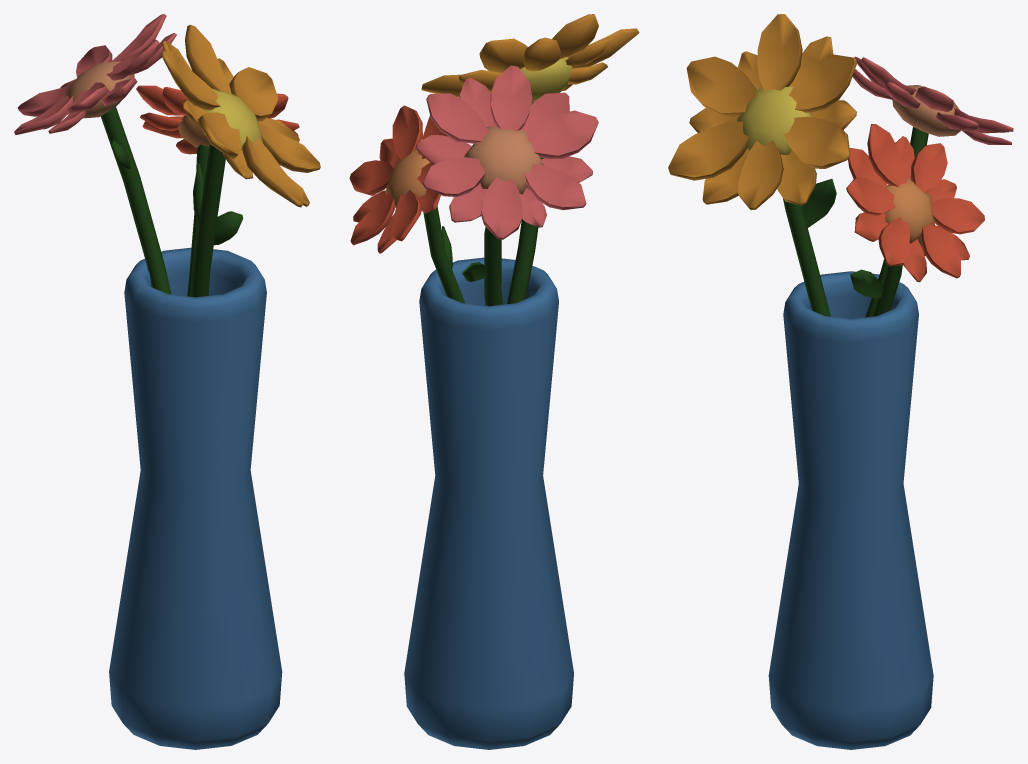
Rendered from Flowers_Vase_01.fbx.
3 views of the same model, side by side, from view 1: azimuth 30°, elevation 25°; view 2: azimuth 150°, elevation 25°; view 3: azimuth 270°, elevation 25° (orthographic). The views are drawn at different scales.
Visible parts, largest first — view 1: Flowers_Vase_01; view 2: Flowers_Vase_01; view 3: Flowers_Vase_01.
Boxes of the visible parts, box(x1,y1,x2,y2) form: Flowers_Vase_01: box(14, 14, 320, 749); Flowers_Vase_01: box(349, 14, 639, 749); Flowers_Vase_01: box(668, 14, 1013, 749).
Bounding box in the file's own units: 13.34 × 34.73 × 16.07.
